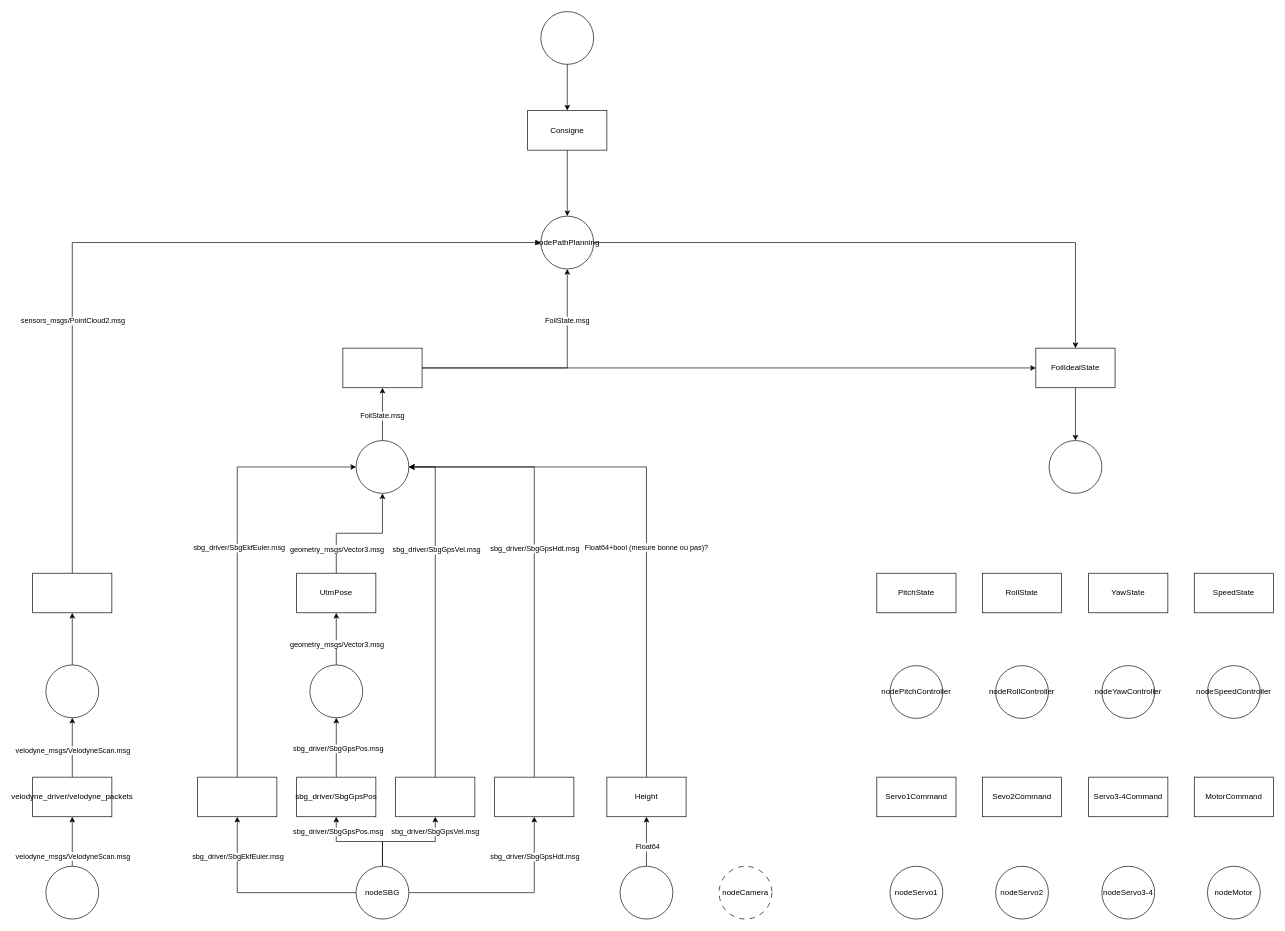
Image size: 1285x931. Some labels were removed from this diagram. Here are the shapes that lost their labels. From the top down, the centre of each, then its label:
At (567,37): "nodeConsigne".
At (382,367): "FoilState".
At (382,466): "nodeState".
At (1075,466): "nodeIdealState".
At (72,593): "velodyne_driver/velodyne_points".
At (72,691): "nodePointCloud".
At (336,691): "nodeProj".
At (237,796): "sbg_driver/SbgEkfEuler".
At (435,796): "sbg_driver/SbgGpsVel".
At (534,796): "sbg_driver/SbgGpsHdt".
At (72,892): "nodeLidar".
At (646,892): "nodeAccoustic".
